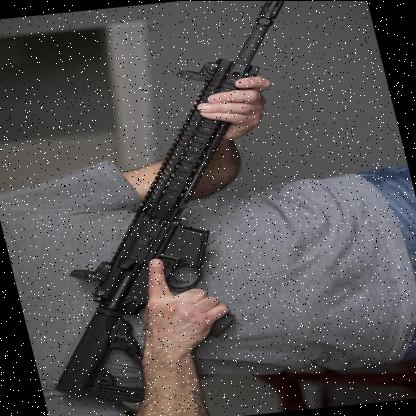rifle: (0, 1, 382, 416)
